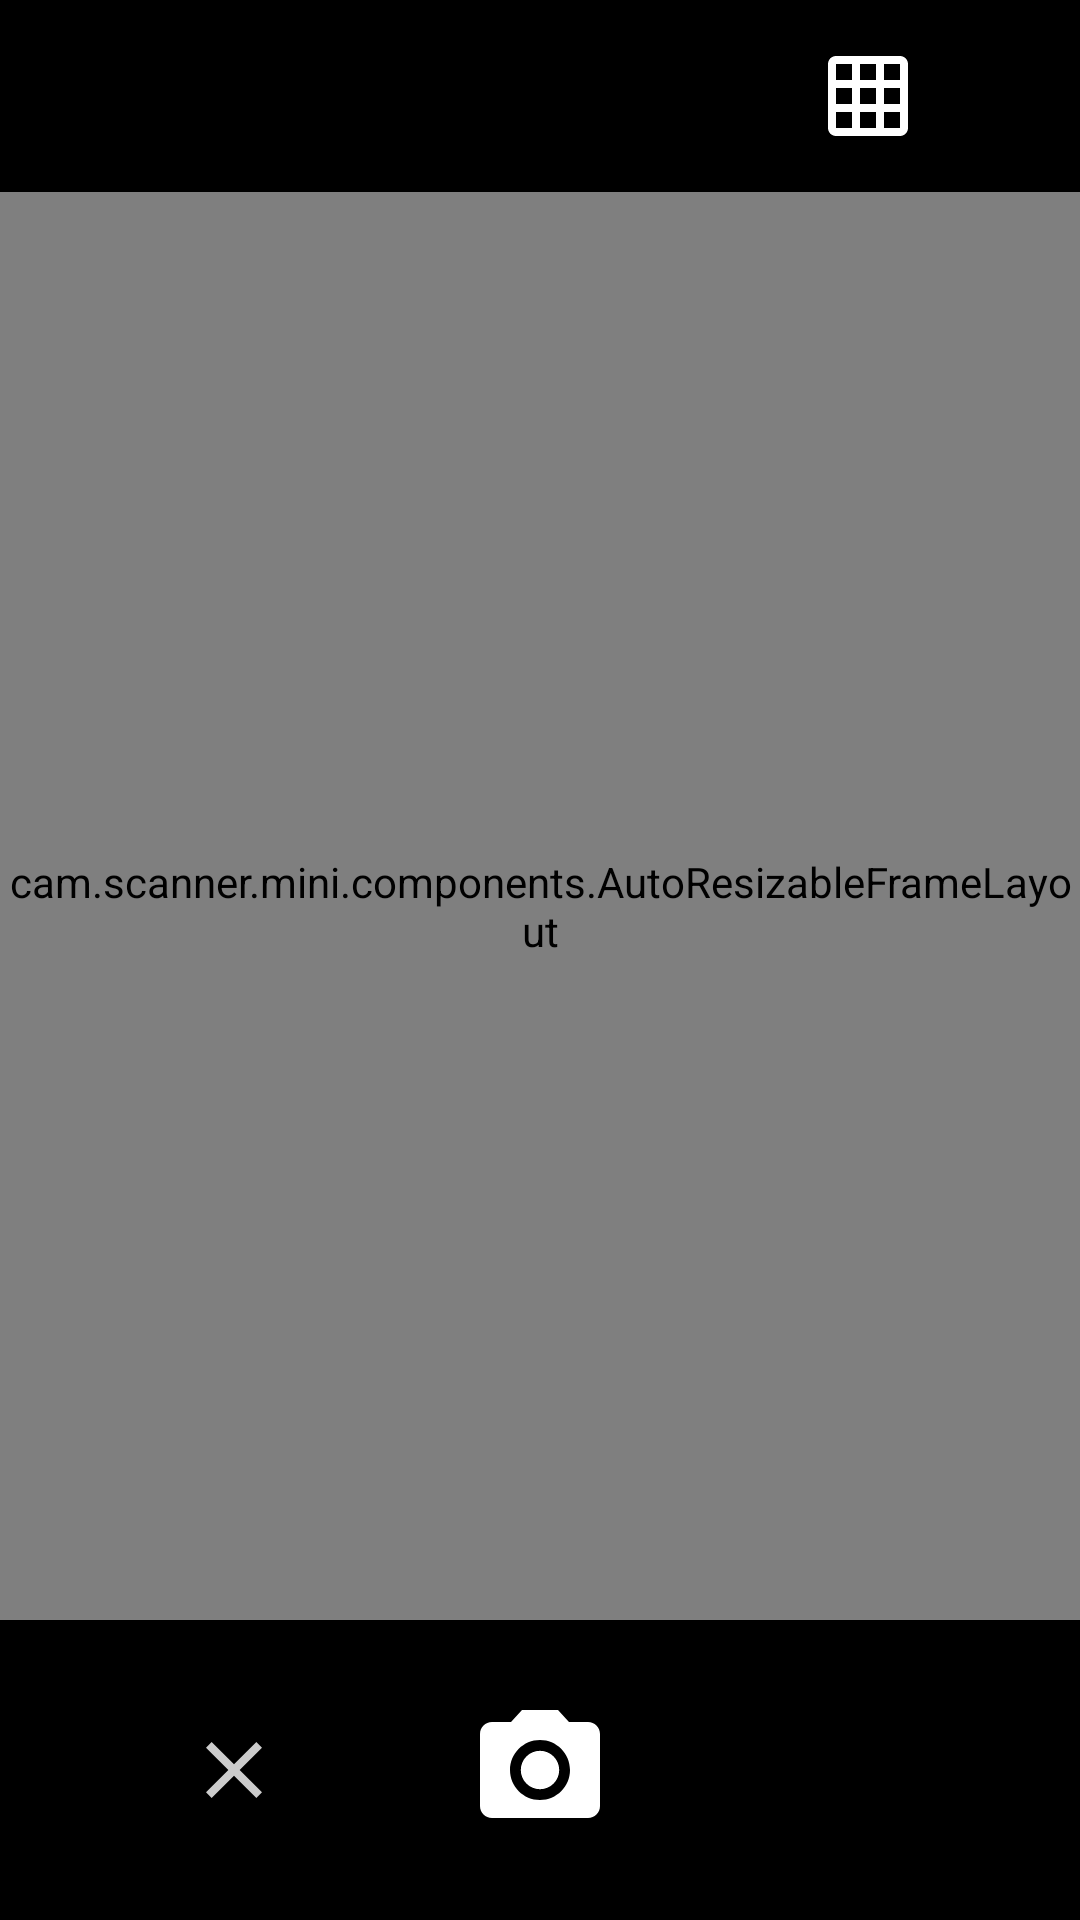

Where icons sit on this 1080 x 1920 app screen, as {"left": x1, "top": y1, "right": x2, "bottom": y2}:
camera: {"left": 480, "top": 1710, "right": 600, "bottom": 1818}
close: {"left": 206, "top": 1742, "right": 262, "bottom": 1798}
grid: {"left": 828, "top": 56, "right": 908, "bottom": 136}
